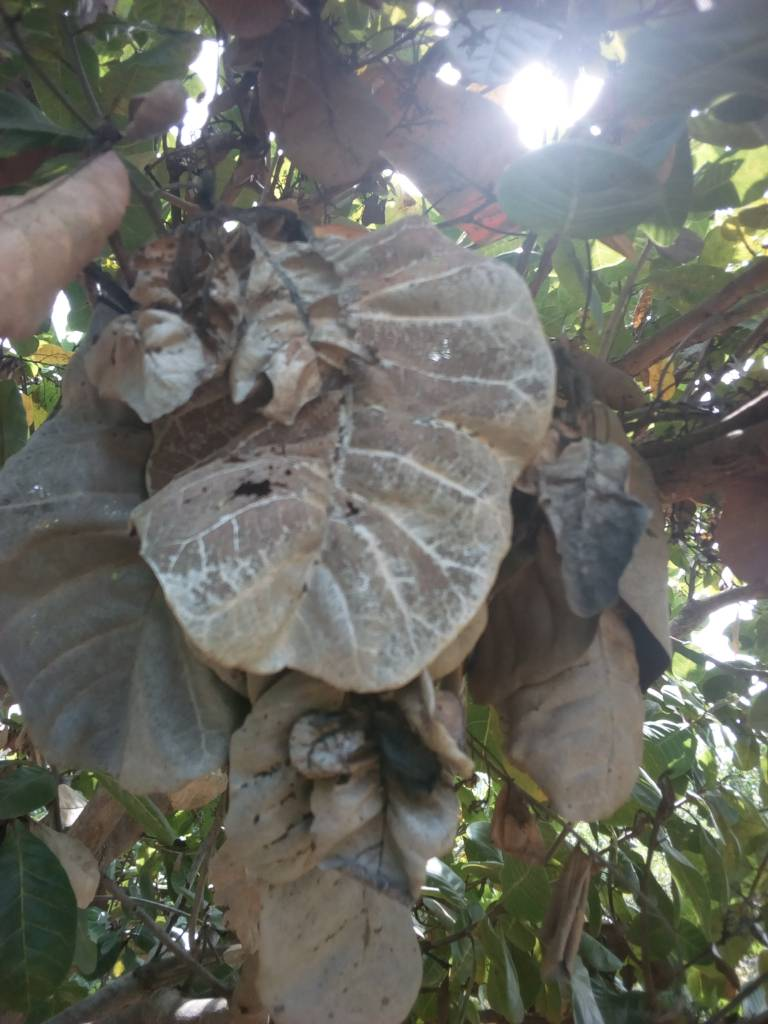Die-black: (289, 681, 493, 919), (538, 422, 665, 639), (164, 197, 266, 361)
